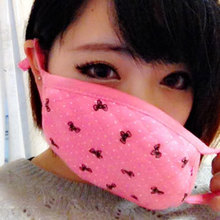face_mask: (43, 1, 195, 183)
